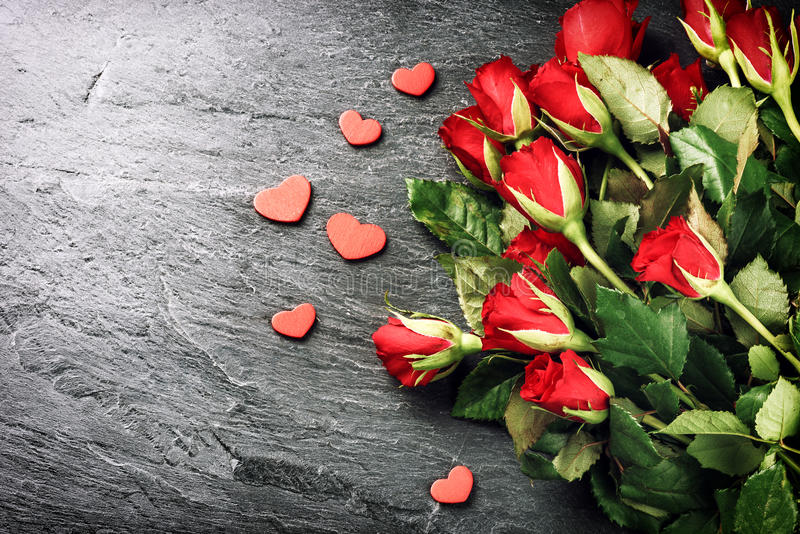RedRose: (488, 140, 588, 232), (514, 334, 610, 428), (629, 213, 724, 307), (366, 300, 457, 394), (476, 275, 576, 358), (528, 51, 609, 153), (545, 0, 646, 75), (724, 0, 800, 92), (634, 43, 719, 118), (467, 56, 532, 134), (433, 108, 506, 176), (672, 0, 742, 60)
